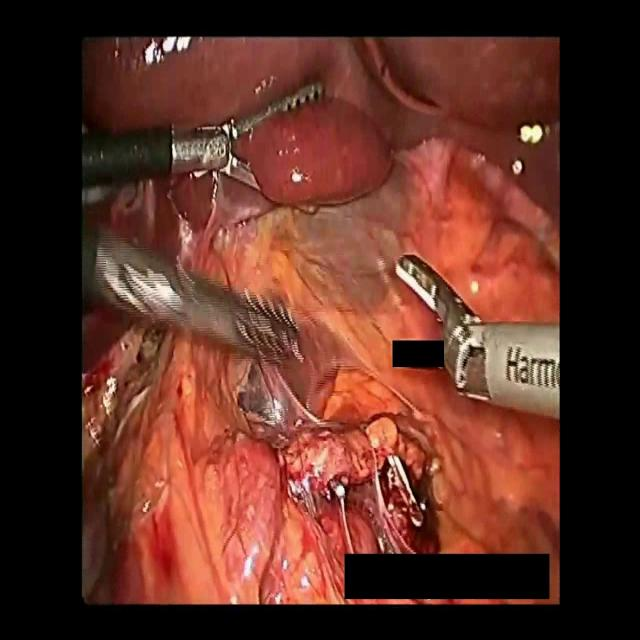surgical-area: (81, 36, 560, 603)
surgical-tool: (81, 215, 303, 368), (394, 251, 560, 419), (82, 82, 323, 191)
